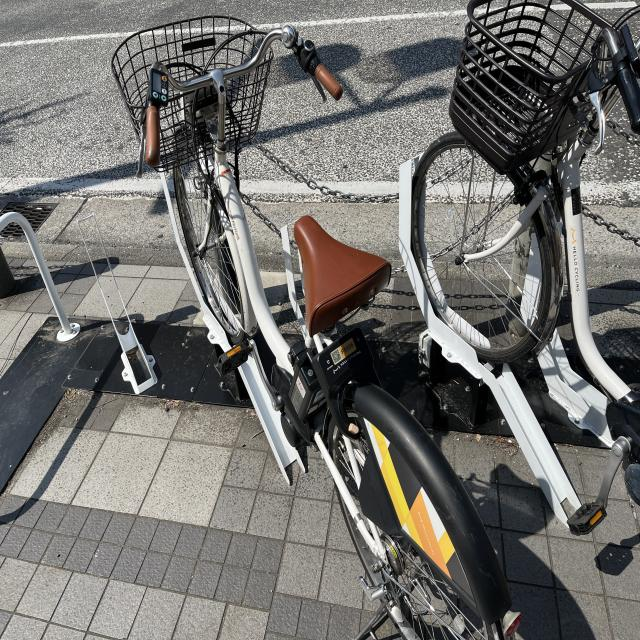basket: (445, 0, 625, 176), (107, 14, 277, 179)
battery: (283, 355, 323, 420)
